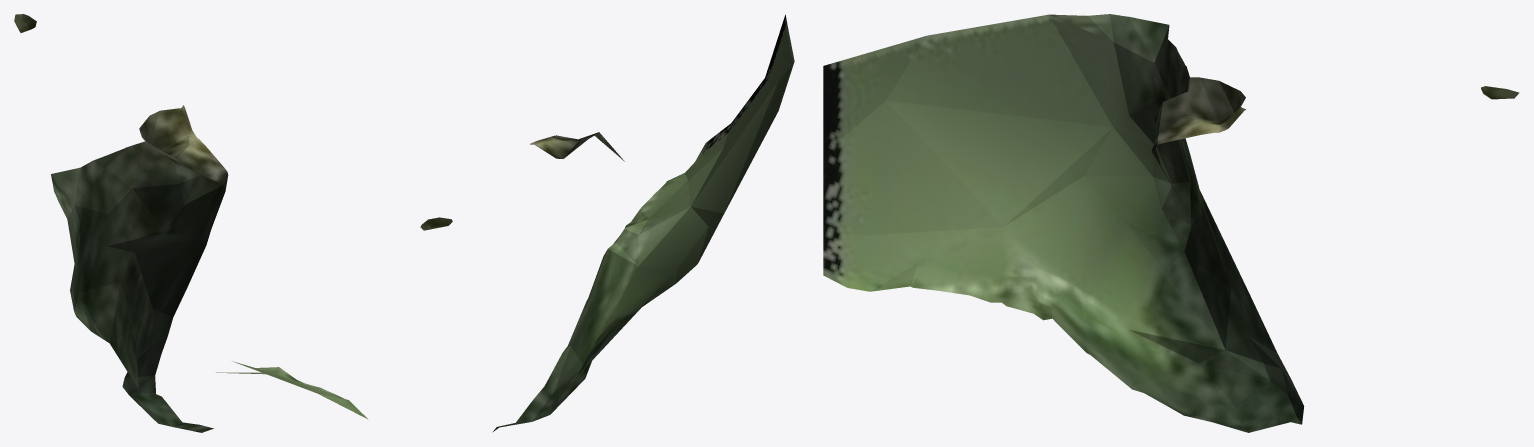
3 renders of one model, left to right at view 1: azimuth 30°, elevation 25°; view 2: azimuth 150°, elevation 25°; view 3: azimuth 270°, elevation 25°, orthographic. The views are drawn at different scales.
Bounding box in the file's own units: 2.31 × 3.65 × 7.11.
1 material, 1 textured.
